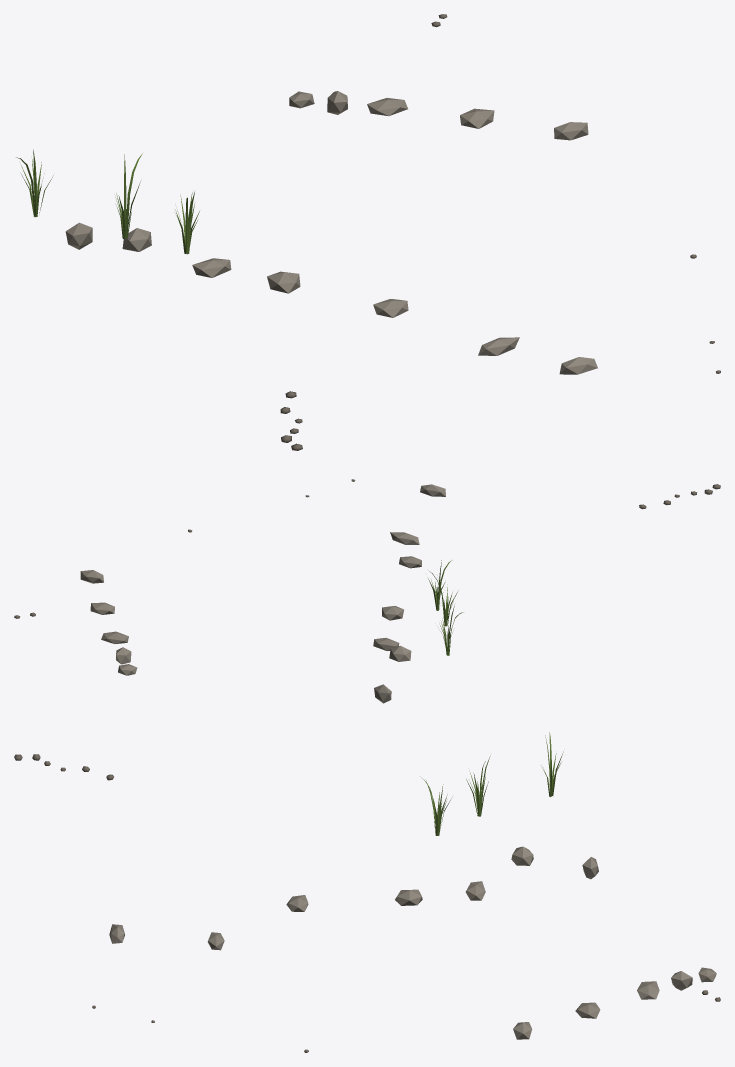
File: river_mouth_l_center.glb
3 views of the same model, one above another, from view 1: azimuth 30°, elevation 25°; view 2: azimuth 150°, elevation 25°; view 3: azimuth 270°, elevation 25° (orthographic). The views are drawn at different scales.
Parts seen in each view (by area): view 1: river_mouth_l_center_lod0; view 2: river_mouth_l_center_lod0; view 3: river_mouth_l_center_lod0.
Boxes of the visible parts, x1=… form: river_mouth_l_center_lod0: x1=16, y1=14, x2=720, y2=450; river_mouth_l_center_lod0: x1=14, y1=479, x2=720, y2=703; river_mouth_l_center_lod0: x1=14, y1=732, x2=720, y2=1052.
Size of what is drawn, in the model's own units: 14.81 by 3.43 by 18.19.
